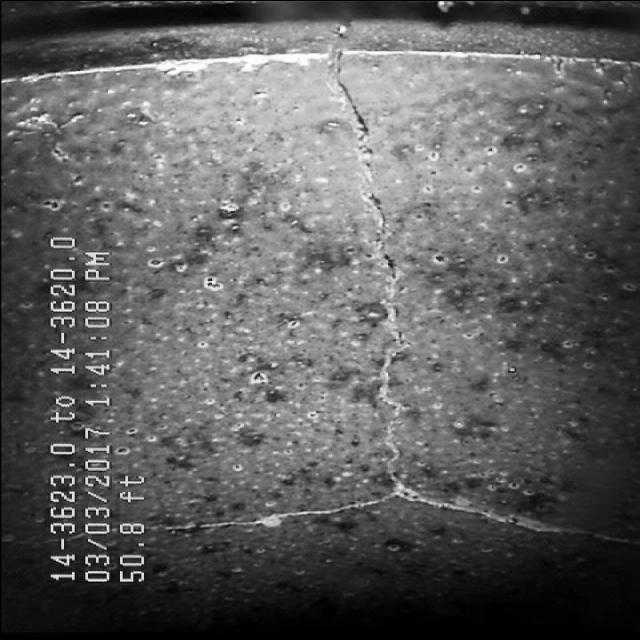Crack: (190, 51, 566, 555)
